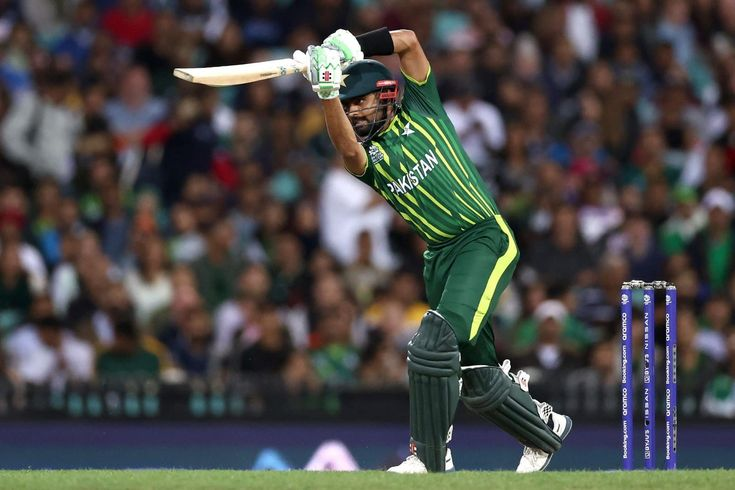Defence: (84, 3, 644, 490)
